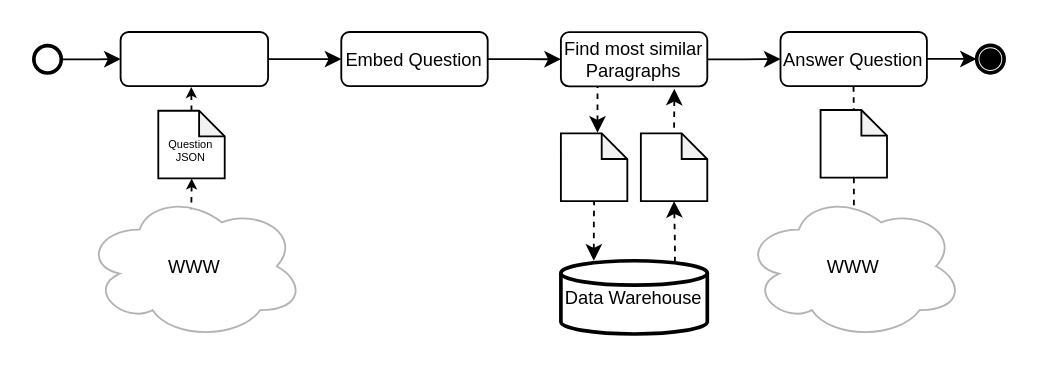
This 1038x371 diagram has some shape labels left out. The shapes that lost their labels are listed below. From the top down, each one's centre as x and y in pixels, then its label:
At point (193, 58): "retrieve Question".
At point (853, 143): "Answer JSON".
At point (593, 166): "Embedded Question".
At point (673, 166): "Paragraph JSON".
